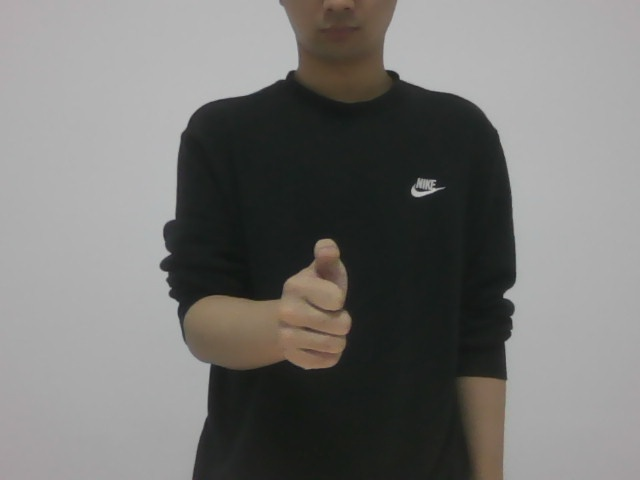thank you: (271, 235, 359, 377)
